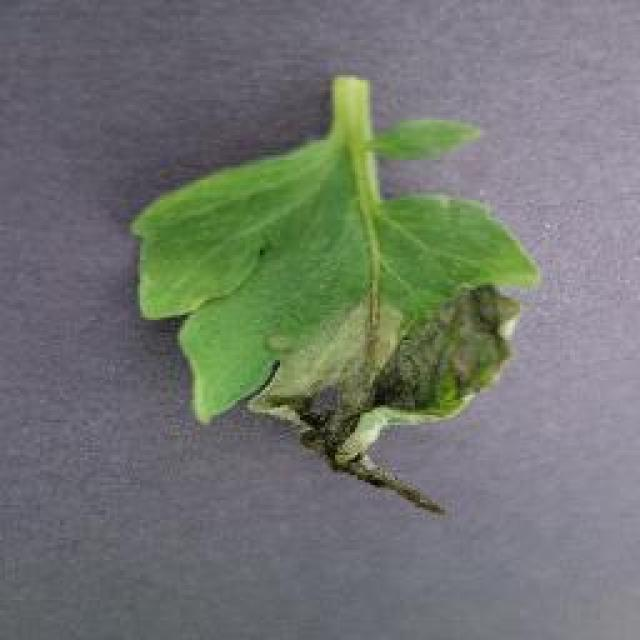Tomato___Late_blight: (132, 75, 542, 518)
